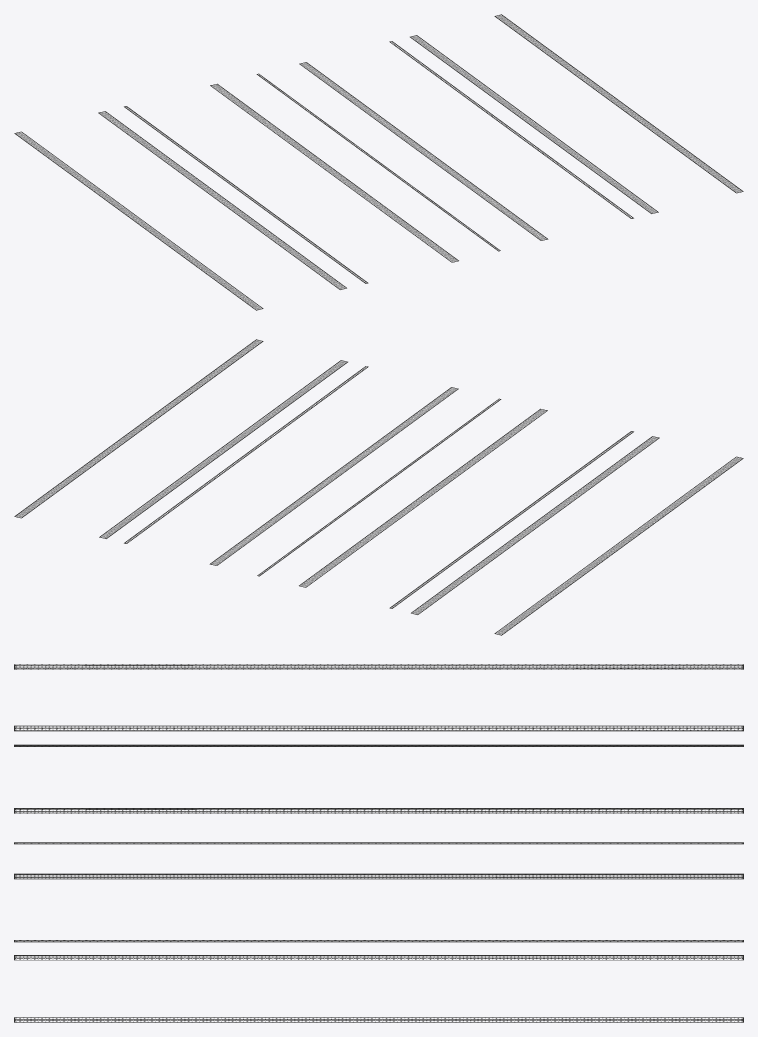
Rendered from Ceiling_2.fbx.
3 renders of one model, top to bottom at view 1: azimuth 30°, elevation 25°; view 2: azimuth 150°, elevation 25°; view 3: azimuth 270°, elevation 25°, orthographic. The views are drawn at different scales.
Parts seen in each view (by area): view 1: Ceiling_Deco_Mesh; view 2: Ceiling_Deco_Mesh; view 3: Ceiling_Deco_Mesh.
Boxes of the visible parts, box(x1,y1,x2,y2) form: Ceiling_Deco_Mesh: box(14, 14, 743, 310); Ceiling_Deco_Mesh: box(14, 339, 743, 635); Ceiling_Deco_Mesh: box(14, 664, 743, 1022).
Size of the model in its own units: 1165 by 0.000163 by 1002.
Materials: 2 (1 with a texture image).
